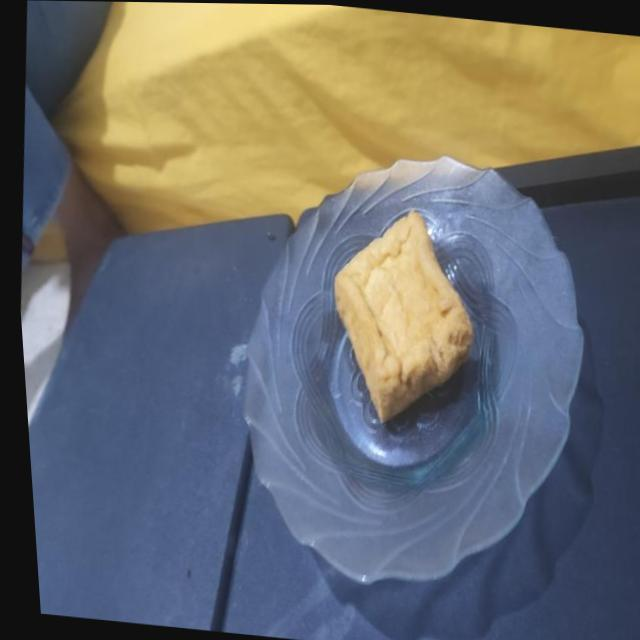tahu_goreng: (334, 210, 473, 422)
